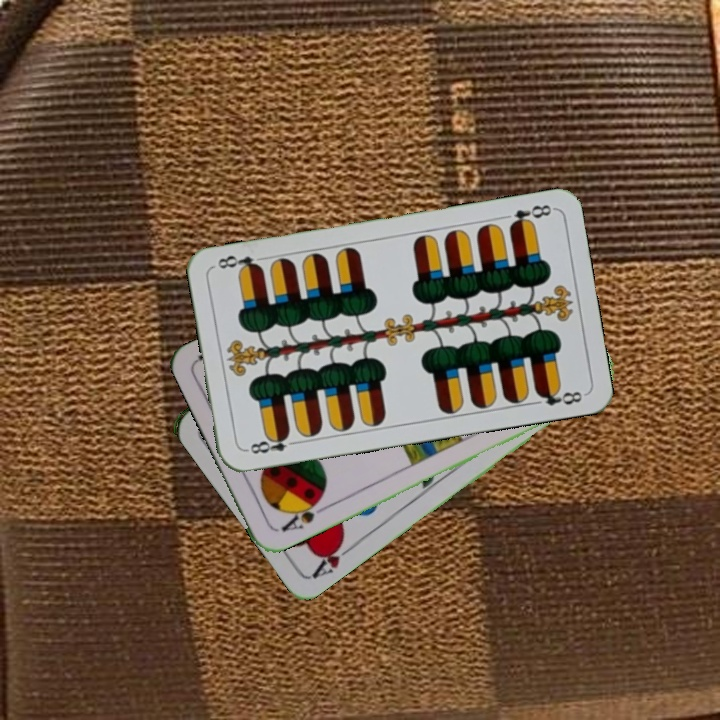E8: (242, 429, 301, 457), (505, 200, 556, 231)
HA: (308, 532, 360, 581)
SA: (277, 494, 329, 535)
